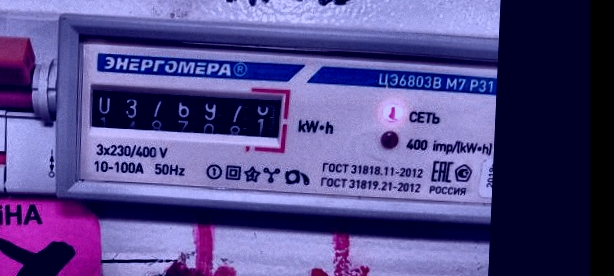0: (96, 92, 111, 115)
1: (254, 116, 266, 137)
3: (123, 96, 139, 119)
6: (175, 95, 191, 118)
7: (148, 94, 164, 118), (229, 100, 244, 124)
9: (201, 98, 217, 121)
screen: (79, 74, 293, 157)
